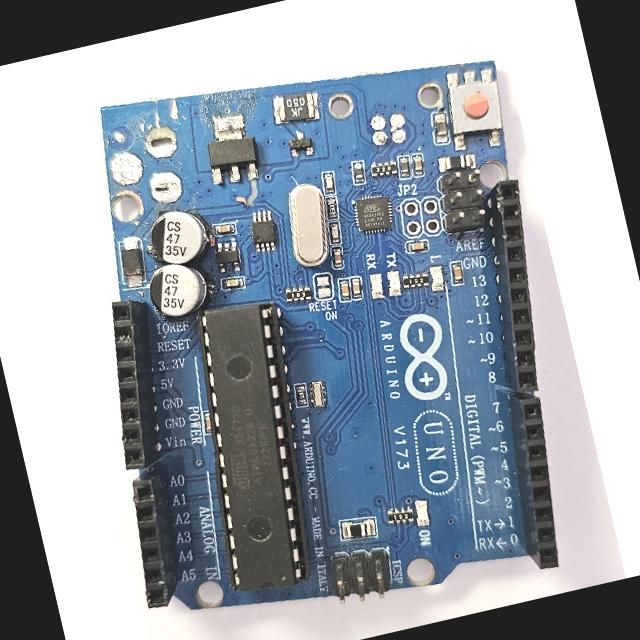missing_eps: (123, 117, 201, 210)
missing_usb: (320, 77, 432, 152)
